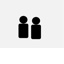human: (30, 14, 41, 41), (17, 14, 29, 38)
